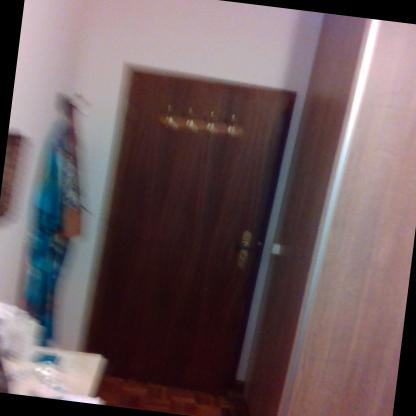closed: (74, 52, 302, 400)
